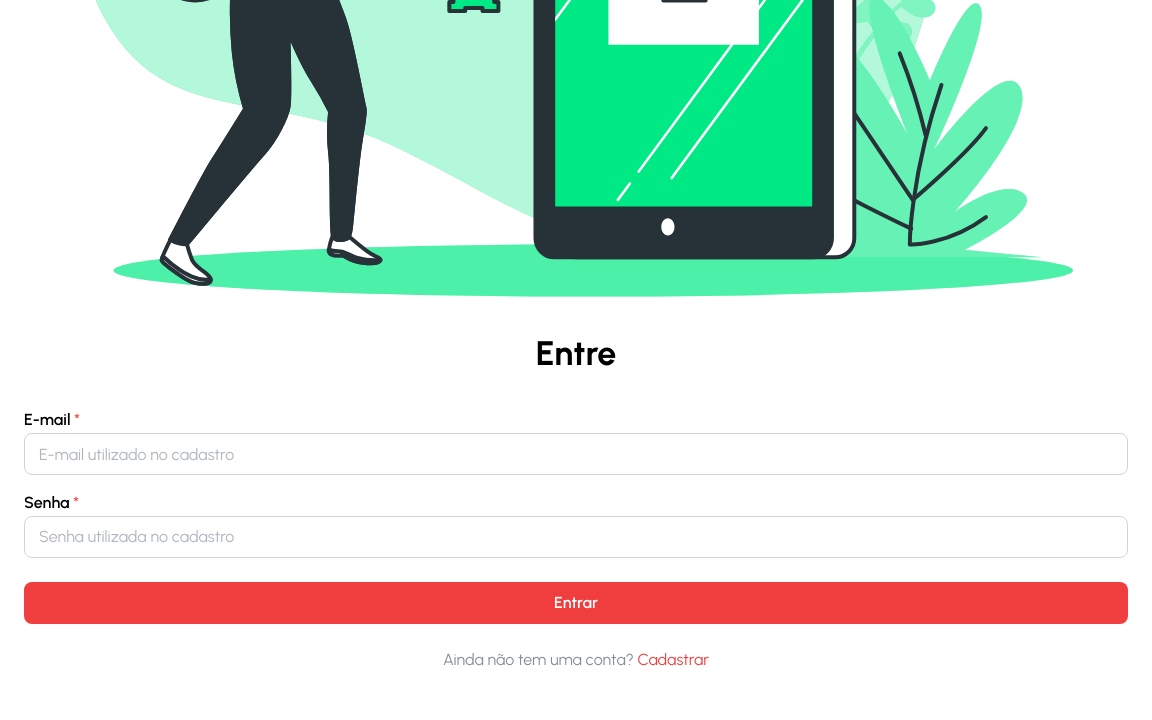
shows error message when submitting with invalid filling
(page scrolled)
Type "invalid-email" into the field labelled "E-mail *". click: (576, 454)
box: [24,433,1128,475]
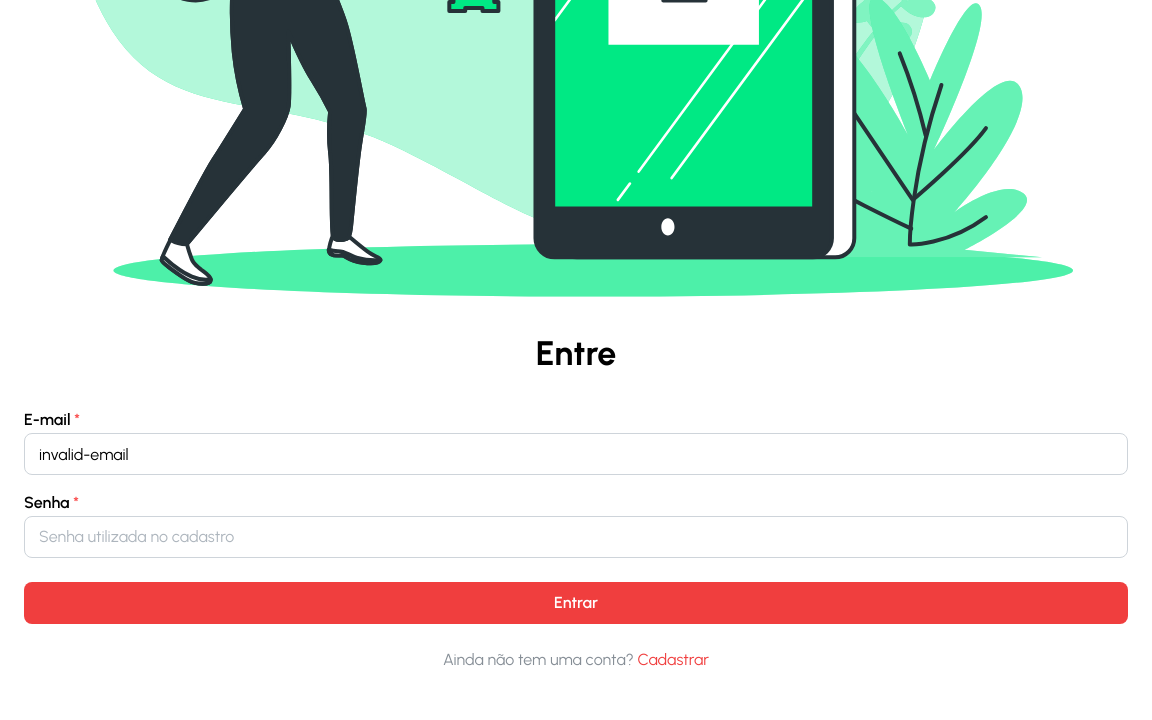
Type "123" into the password field labelled "Senha *". click: (576, 537)
box: [24,516,1128,558]
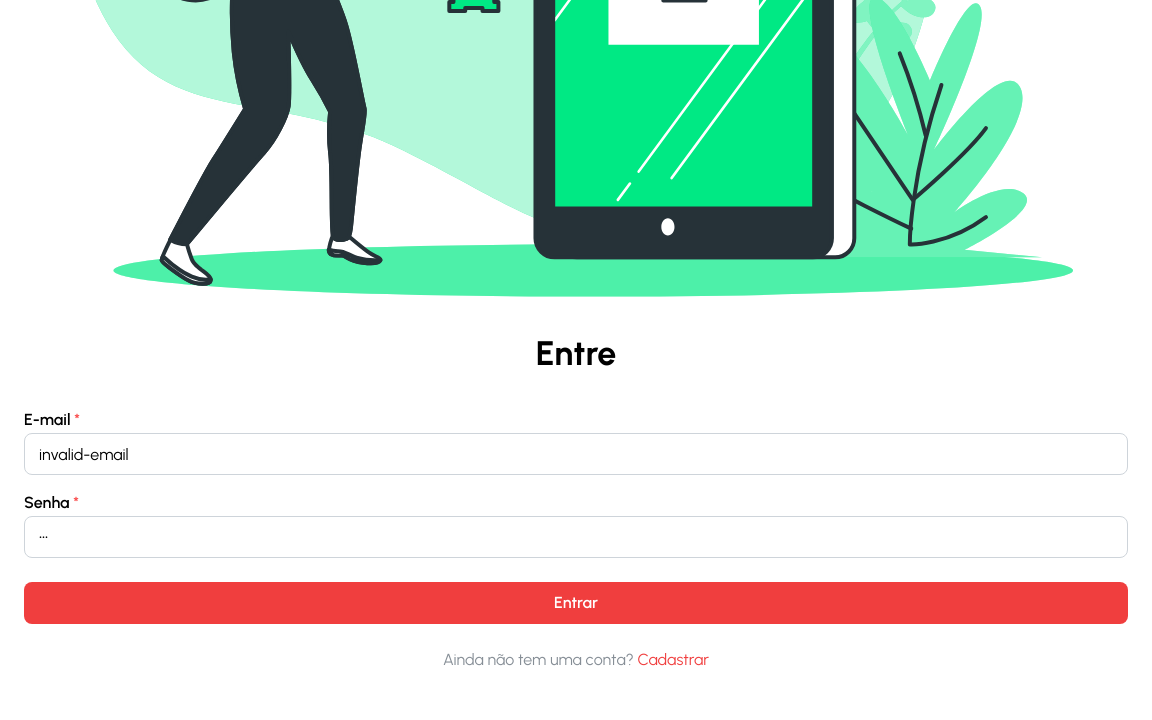
Submit the form from the button "Entrar", box [24,582,1128,624]
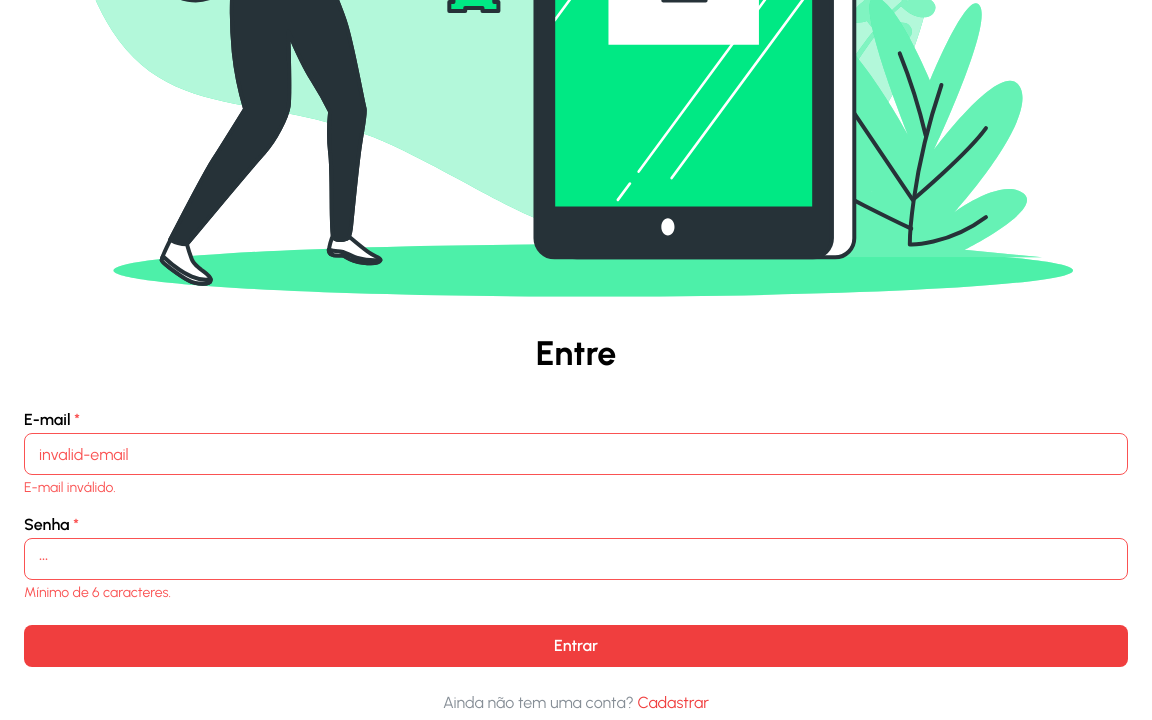
Now the text "E-mail inválido." is shown, box [24,479,116,496]
Now the text "Mínimo de 6 caracteres." is shown, box [24,584,171,601]
